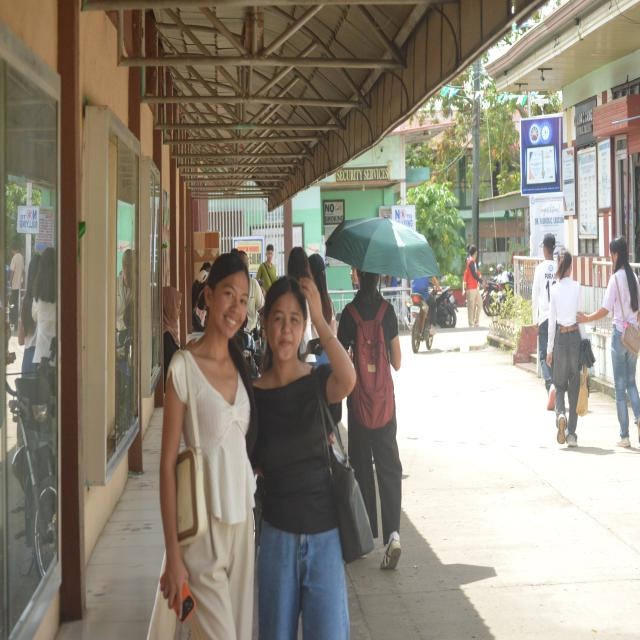person: (160, 254, 257, 639), (252, 278, 355, 639), (578, 237, 639, 447), (348, 395, 402, 569), (547, 248, 585, 447), (532, 233, 556, 409), (32, 248, 57, 368), (18, 254, 40, 373), (309, 253, 337, 334), (163, 286, 182, 385), (412, 277, 442, 334), (464, 245, 483, 327), (10, 238, 24, 328), (246, 277, 264, 332), (257, 244, 276, 292)
